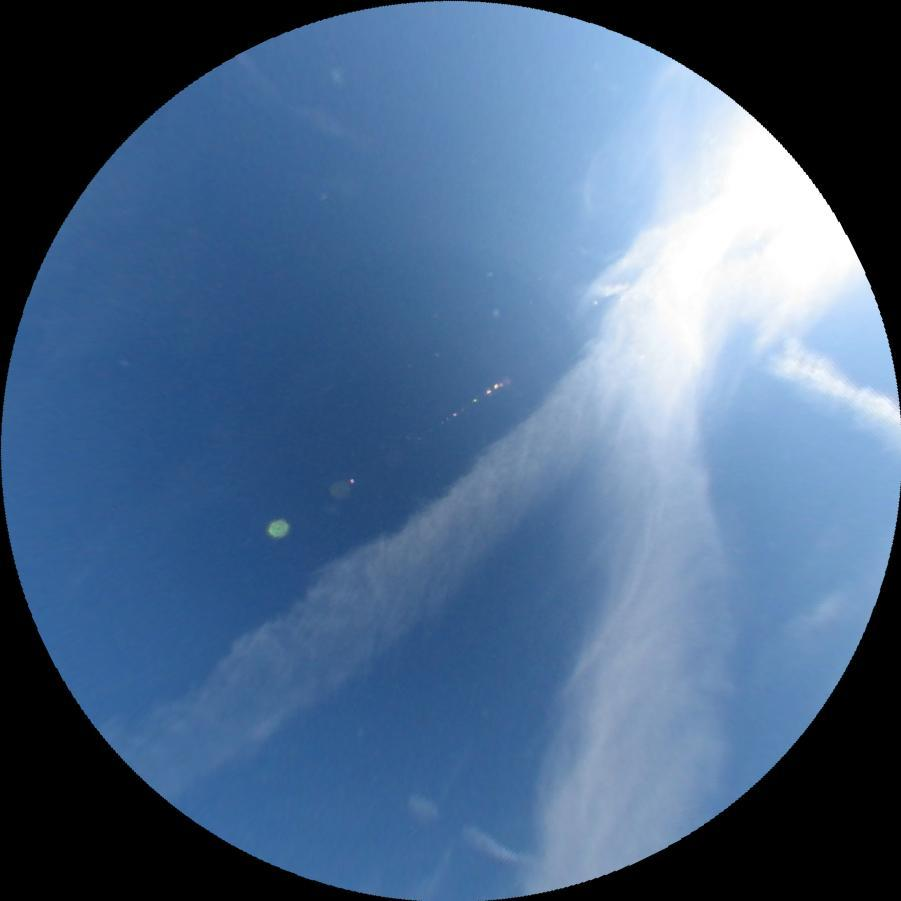contrail veryold: (89, 165, 881, 818), (763, 337, 901, 426)
unknow: (404, 791, 541, 879)
